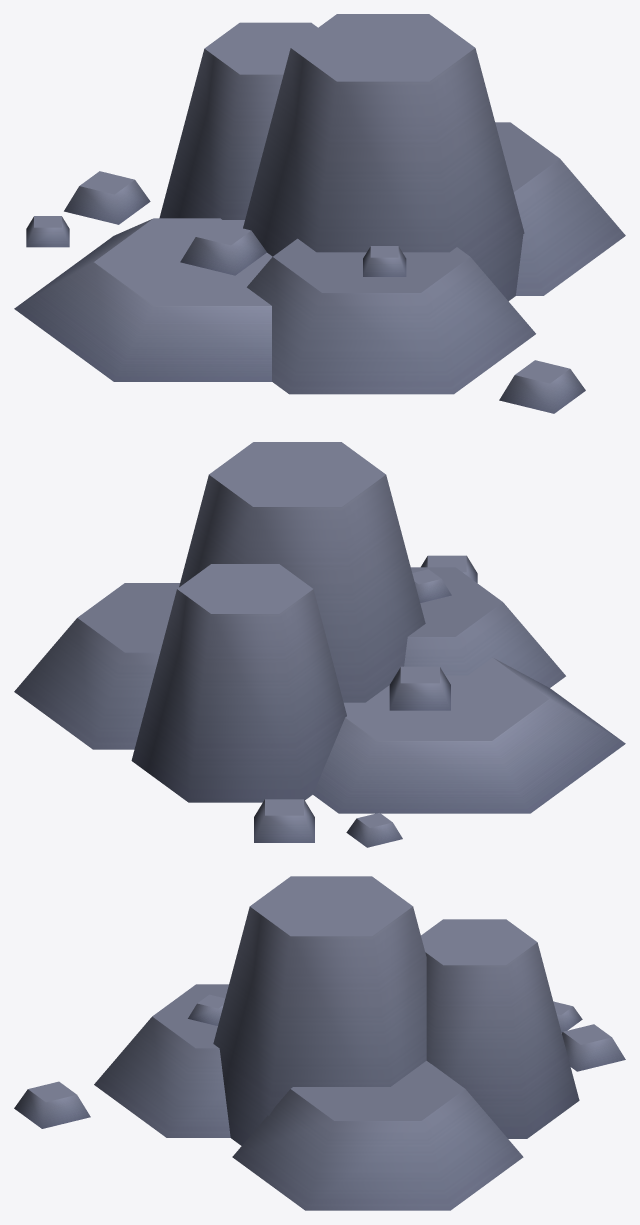
File: rocks-large.fbx
3 renders of one model, top to bottom at view 1: azimuth 30°, elevation 25°; view 2: azimuth 150°, elevation 25°; view 3: azimuth 270°, elevation 25°, orthographic. The views are drawn at different scales.
Parts seen in each view (by area): view 1: rocks-large; view 2: rocks-large; view 3: rocks-large.
Part boxes in pixels (left/top/right/bottom): rocks-large: left=14, top=14, right=625, bottom=413; rocks-large: left=14, top=442, right=625, bottom=847; rocks-large: left=14, top=876, right=625, bottom=1210.
Bounding box in the file's own units: 1.2 × 1.35 × 0.5.
